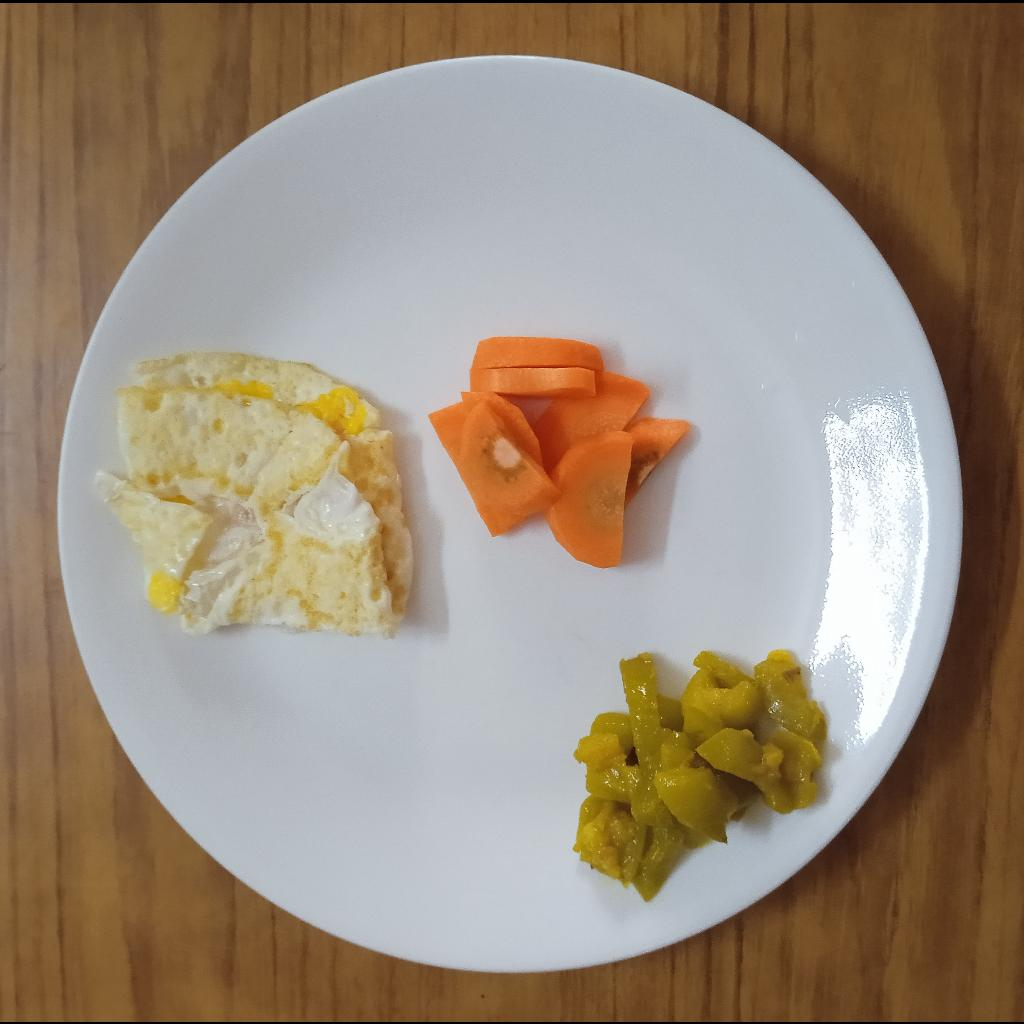carrot: (426, 332, 694, 570)
egg-poached: (92, 347, 414, 642)
lau: (570, 645, 830, 906)
